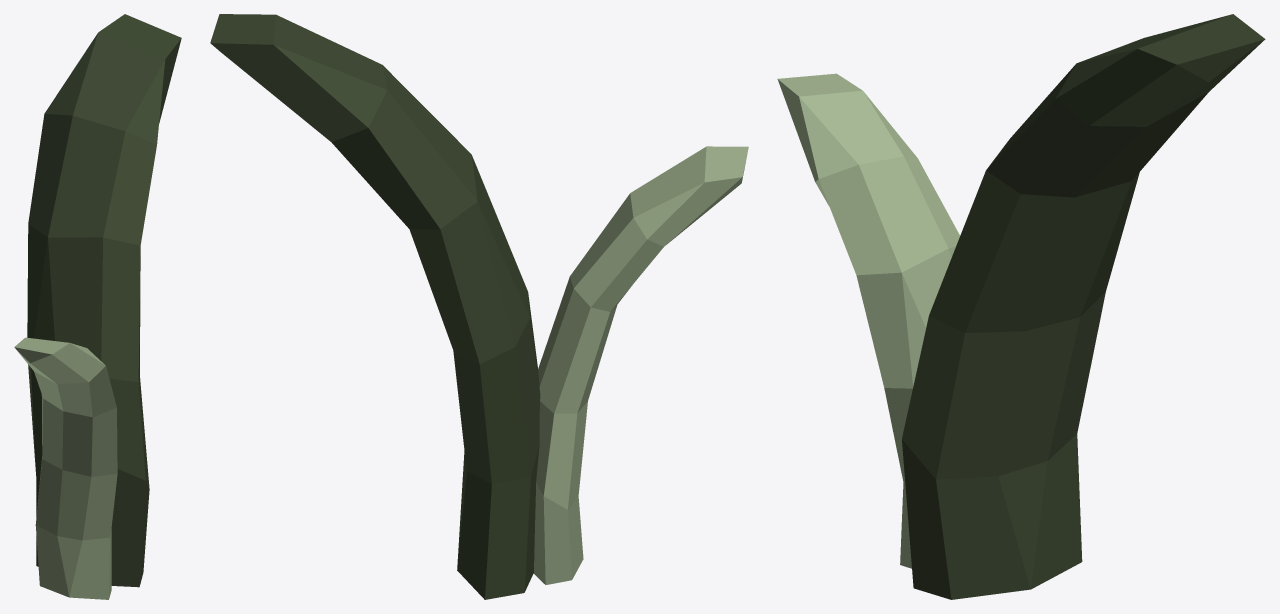
File: EA_Swamp_Grass_02a.glb
3 renders of one model, left to right at view 1: azimuth 30°, elevation 25°; view 2: azimuth 150°, elevation 25°; view 3: azimuth 270°, elevation 25°, orthographic. The views are drawn at different scales.
Visible parts, largest first — view 1: EA_Swamp_Grass_02a; view 2: EA_Swamp_Grass_02a; view 3: EA_Swamp_Grass_02a.
Part boxes in pixels (x1=…): EA_Swamp_Grass_02a: x1=14, y1=14, x2=181, y2=599; EA_Swamp_Grass_02a: x1=210, y1=14, x2=748, y2=599; EA_Swamp_Grass_02a: x1=777, y1=14, x2=1265, y2=599.
Size of the model in its own units: 0.3947 by 0.588 by 0.4155.
Materials: 1 (1 with a texture image).
